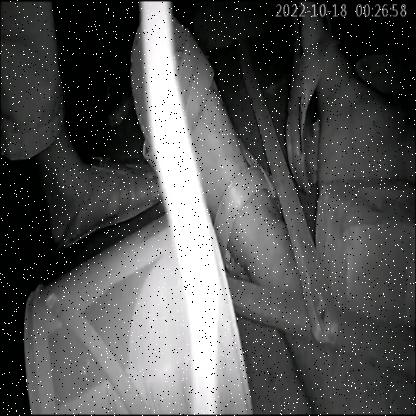leg: (122, 8, 284, 270), (277, 17, 411, 199), (42, 140, 169, 257)
